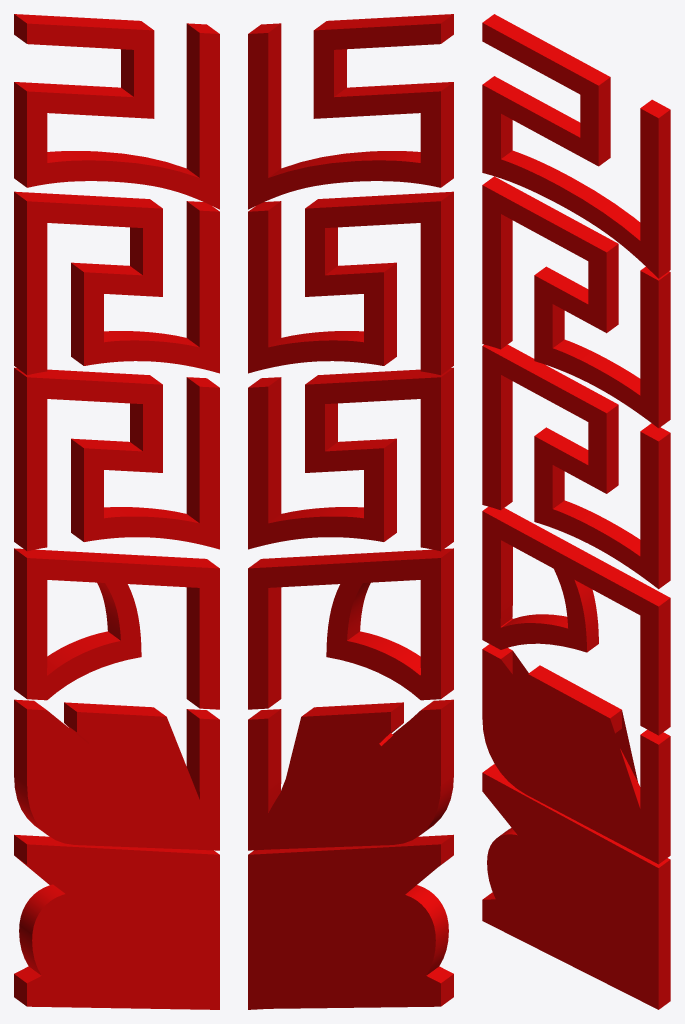
The model's file is Text_sign_1.fbx.
The picture shows the model from 3 angles, left to right: view 1: azimuth 30°, elevation 25°; view 2: azimuth 150°, elevation 25°; view 3: azimuth 330°, elevation 25°; orthographic projection. The views are drawn at different scales.
Visible parts, largest first — view 1: Text_sign_1; view 2: Text_sign_1; view 3: Text_sign_1.
Boxes of the visible parts, left/top/right/bottom form: Text_sign_1: left=14, top=14, right=219, bottom=1009; Text_sign_1: left=248, top=14, right=453, bottom=1009; Text_sign_1: left=482, top=14, right=670, bottom=1009.
Bounding box in the file's own units: 21.5 × 110 × 2.52.
